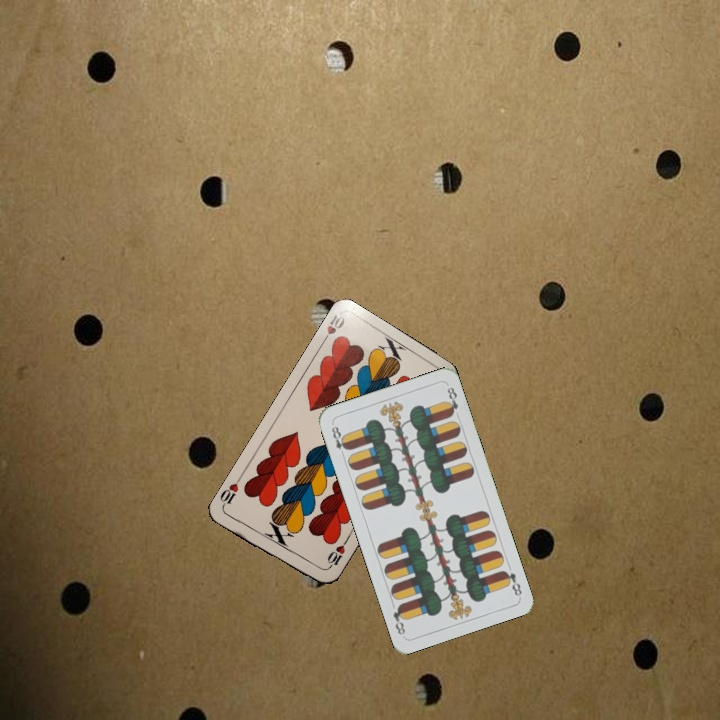E8: (327, 422, 351, 460), (499, 566, 524, 599)
H10: (317, 310, 348, 347), (322, 536, 350, 572)
